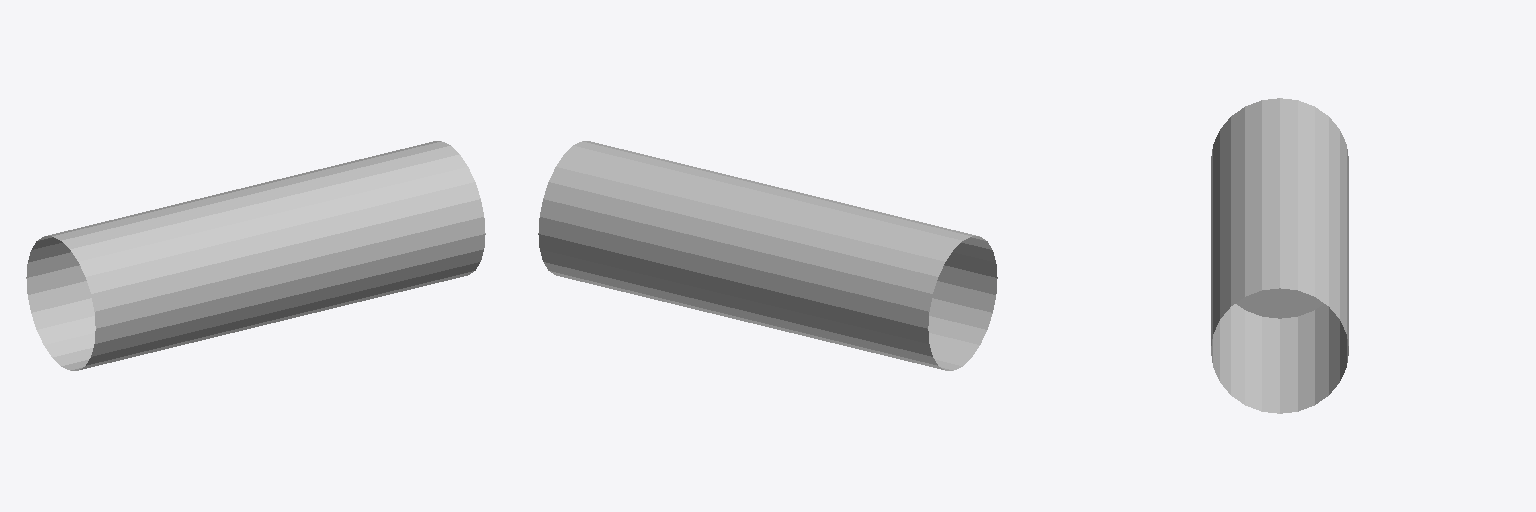
File: original-230.obj
3 renders of one model, left to right at view 1: azimuth 30°, elevation 25°; view 2: azimuth 150°, elevation 25°; view 3: azimuth 270°, elevation 25°, orthographic.
Visible parts, largest first — view 1: #ID1416; view 2: #ID1416; view 3: #ID1416.
Boxes of the visible parts, box(x1,y1,x2,y2) form: #ID1416: box(26, 141, 485, 370); #ID1416: box(538, 141, 997, 370); #ID1416: box(1211, 98, 1348, 413).
Bounding box in the file's own units: 0.0196 × 0.006 × 0.006.